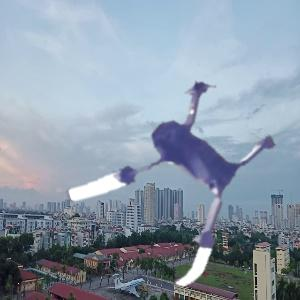drone: (57, 51, 298, 292)
